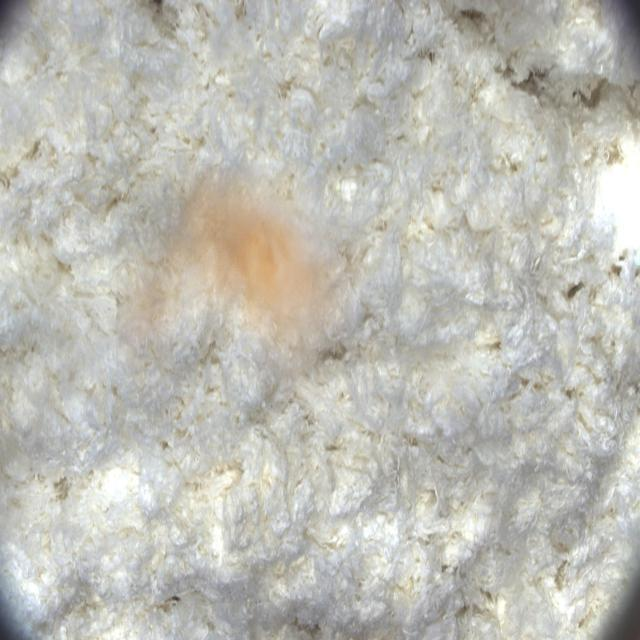dust: (117, 164, 369, 401)
